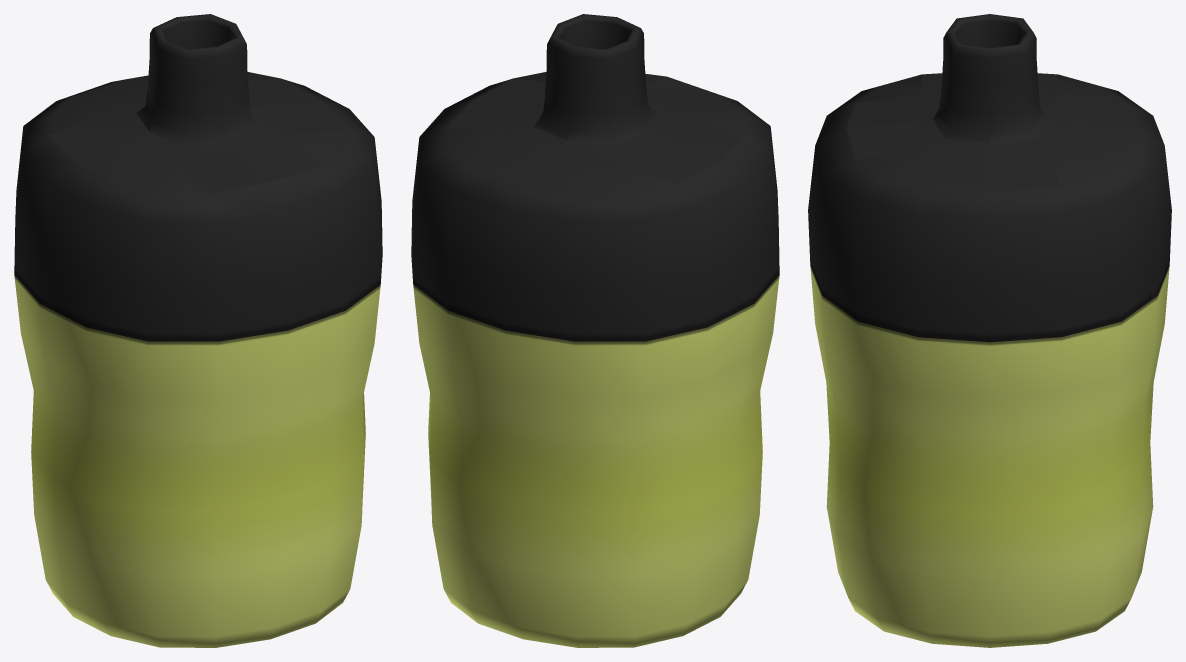
File: heeilitem.fbx
3 views of the same model, side by side, from view 1: azimuth 30°, elevation 25°; view 2: azimuth 150°, elevation 25°; view 3: azimuth 270°, elevation 25° (orthographic).
Parts seen in each view (by area): view 1: polySurface4; view 2: polySurface4; view 3: polySurface4.
Boxes of the visible parts, left/top/right/bottom form: polySurface4: left=14, top=14, right=382, bottom=647; polySurface4: left=411, top=14, right=779, bottom=647; polySurface4: left=808, top=14, right=1171, bottom=647.
Size of the model in its own units: 11.62 by 19.68 by 11.5.
Materials: 1 (1 with a texture image).
